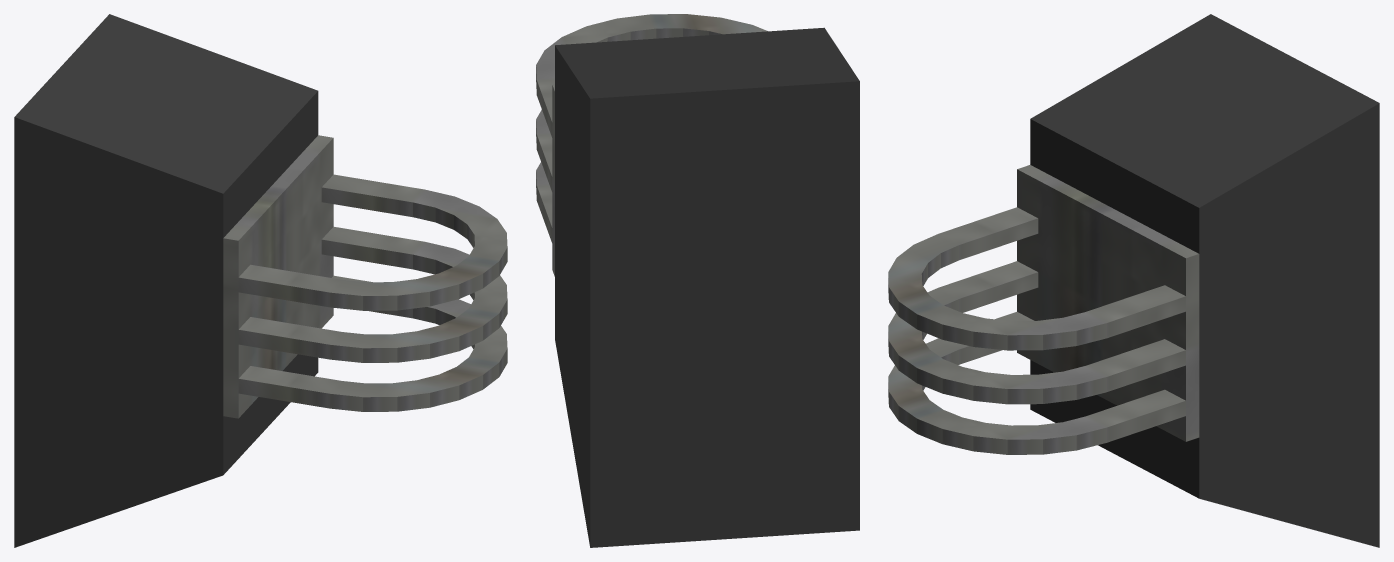
Rendered from caixa-de-som.fbx.
3 renders of one model, left to right at view 1: azimuth 30°, elevation 25°; view 2: azimuth 150°, elevation 25°; view 3: azimuth 270°, elevation 25°, orthographic. The views are drawn at different scales.
Parts seen in each view (by area): view 1: Componente_51_1, Componente_1_1, Al_a1, Al_a3, Al_a2; view 2: Componente_51_1, Al_a1, Al_a3, Al_a2, Componente_1_1; view 3: Componente_51_1, Componente_1_1, Al_a1, Al_a3, Al_a2.
Boxes of the visible parts, box(x1,y1,x2,y2) form: Componente_51_1: box(14, 14, 318, 547); Componente_1_1: box(223, 135, 333, 418); Al_a1: box(238, 174, 507, 310); Al_a3: box(238, 226, 507, 362); Al_a2: box(238, 275, 507, 411); Componente_51_1: box(555, 27, 859, 547); Al_a1: box(536, 14, 767, 137); Al_a3: box(536, 109, 552, 191); Al_a2: box(536, 162, 552, 242); Componente_1_1: box(552, 84, 554, 276); Componente_51_1: box(1030, 14, 1379, 547); Componente_1_1: box(1017, 165, 1199, 441); Al_a1: box(888, 207, 1185, 350); Al_a3: box(888, 261, 1185, 404); Al_a2: box(888, 312, 1185, 454).
Bounding box in the file's own units: 271 × 291 × 291.
